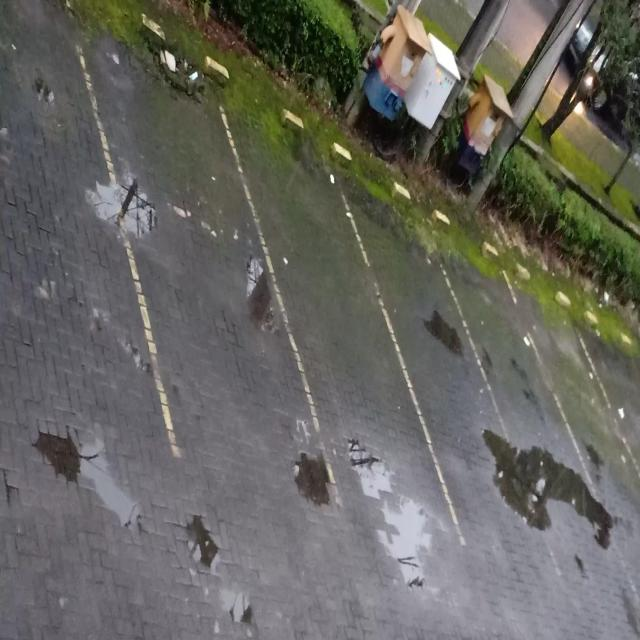empty: (116, 36, 265, 454), (267, 108, 390, 516), (390, 196, 474, 524), (472, 242, 553, 525)
